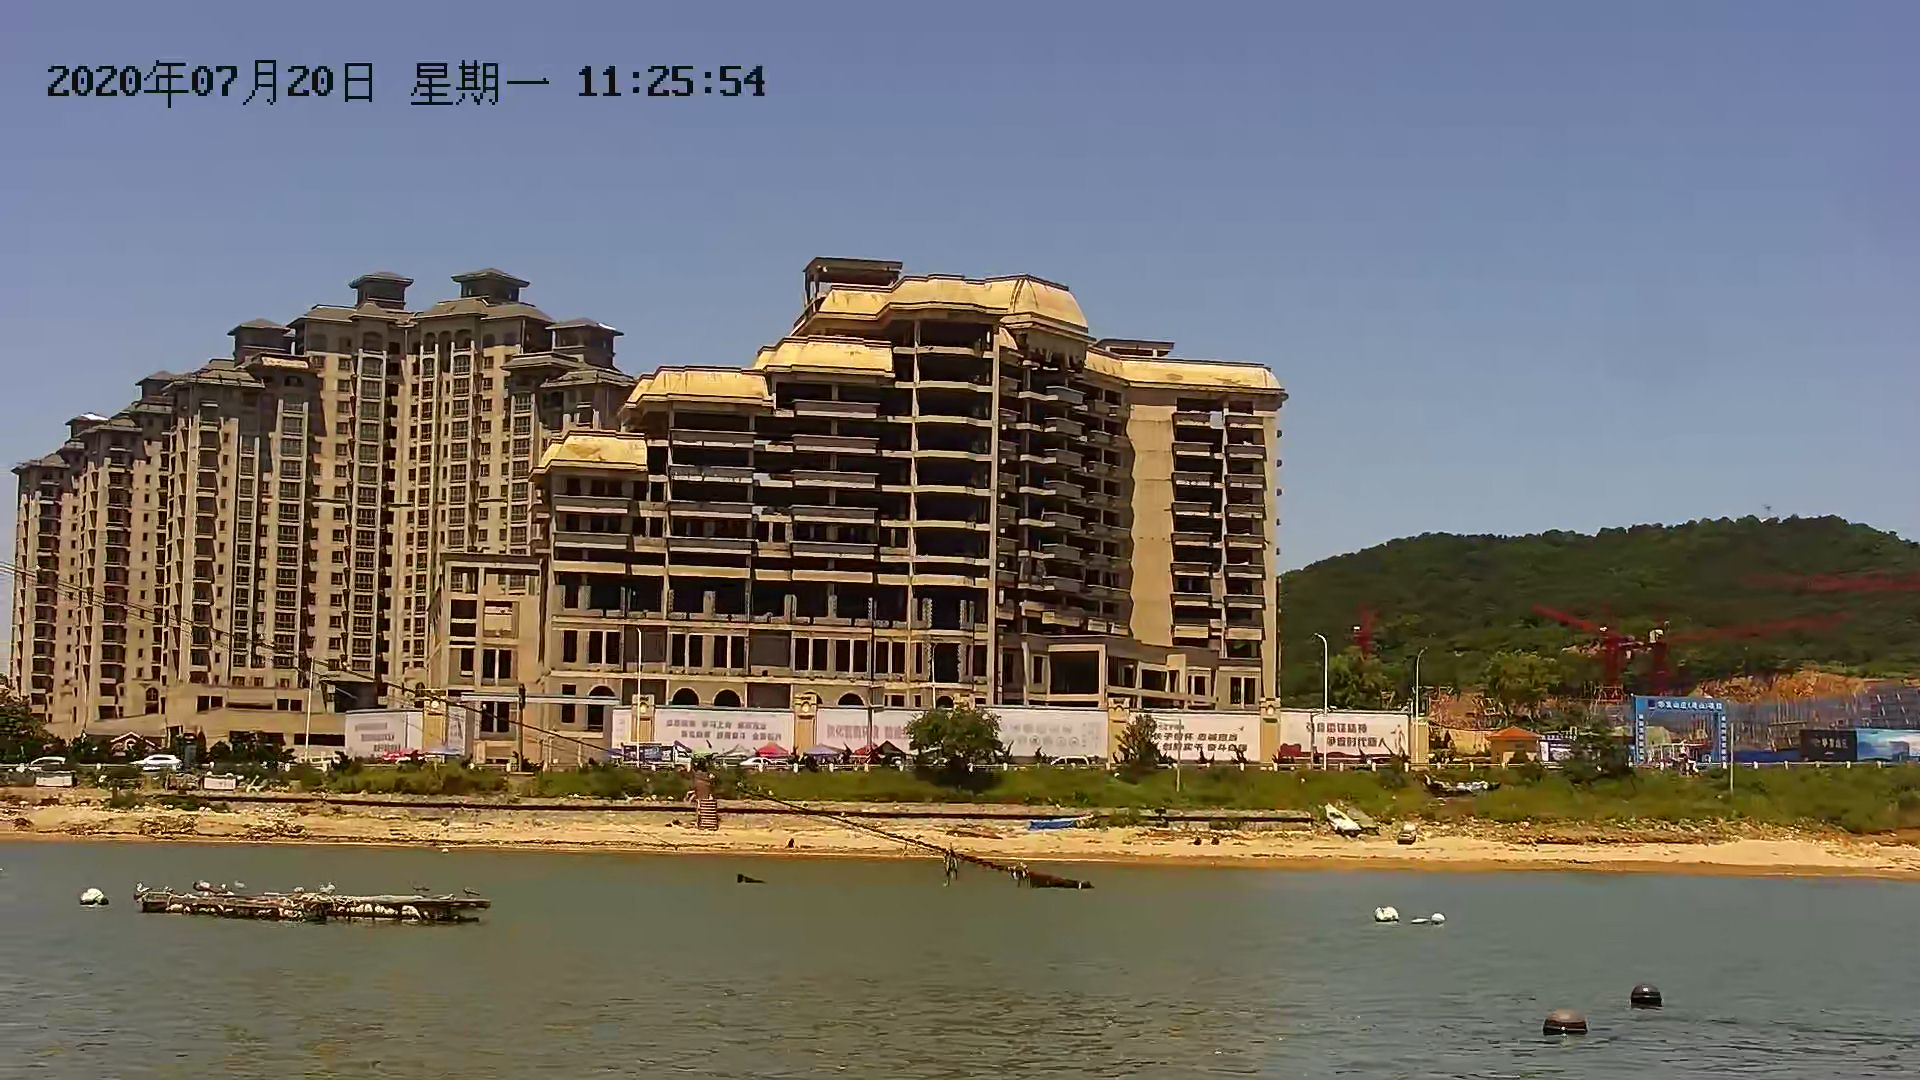ball: (1534, 1007, 1597, 1036), (1625, 982, 1665, 1011), (1371, 906, 1406, 932), (75, 890, 108, 905)
platform: (125, 874, 502, 932)
